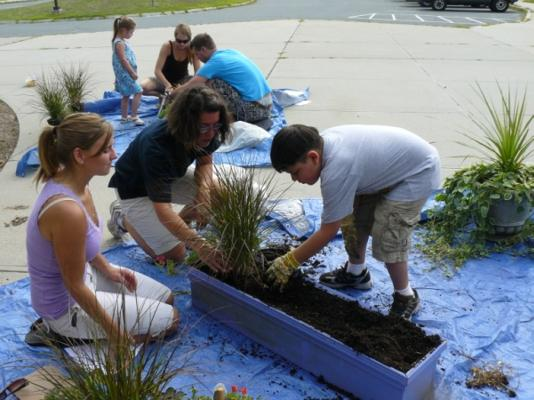person: (110, 81, 258, 277)
